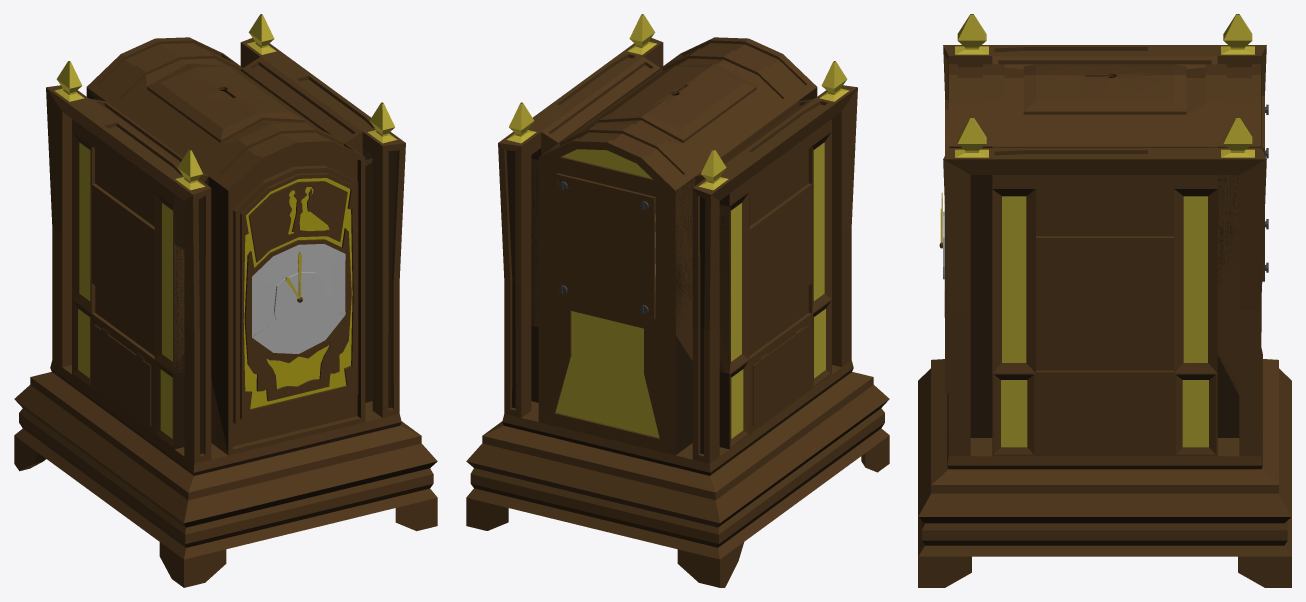
Rendered from clock_final.fbx.
3 views of the same model, side by side, from view 1: azimuth 30°, elevation 25°; view 2: azimuth 150°, elevation 25°; view 3: azimuth 270°, elevation 25° (orthographic). The views are drawn at different scales.
Parts seen in each view (by area): view 1: BASE, dial, hatch_key, hatch_side; view 2: BASE, hatch_back, hatch_key, hatch_side; view 3: BASE, hatch_key, dial.
Part boxes in pixels (left/top/right/bottom): BASE: left=14, top=14, right=437, bottom=587; dial: left=240, top=173, right=355, bottom=419; hatch_key: left=161, top=66, right=290, bottom=128; hatch_side: left=94, top=325, right=151, bottom=426; BASE: left=466, top=14, right=889, bottom=587; hatch_back: left=556, top=173, right=655, bottom=319; hatch_key: left=613, top=66, right=742, bottom=128; hatch_side: left=752, top=324, right=809, bottom=426; BASE: left=918, top=14, right=1291, bottom=587; hatch_key: left=1036, top=64, right=1173, bottom=101; dial: left=939, top=100, right=948, bottom=393.
Bounding box in the file's own units: 247 × 387 × 286.
